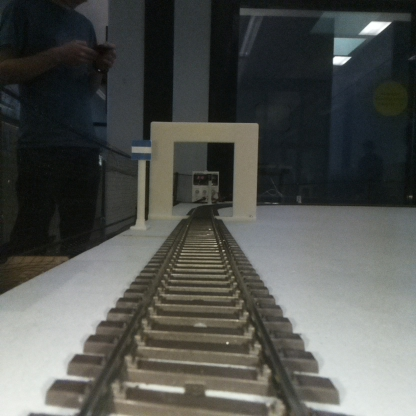start: (131, 138, 151, 228)
